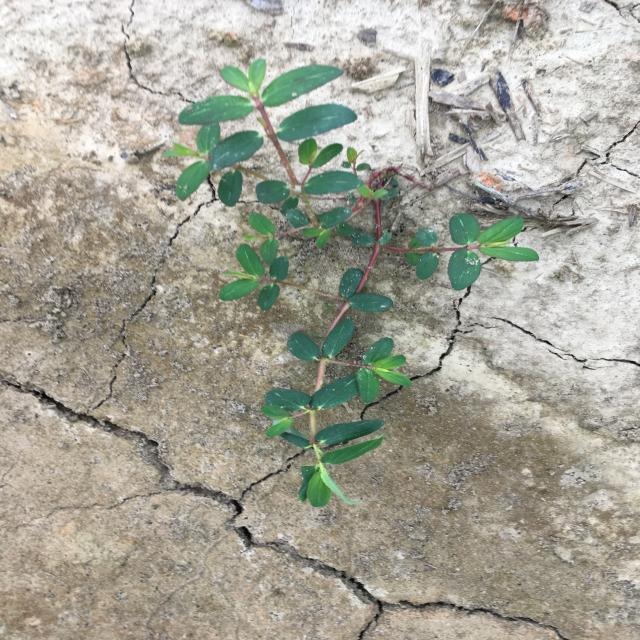SpottedSpurge: (161, 58, 540, 507)
